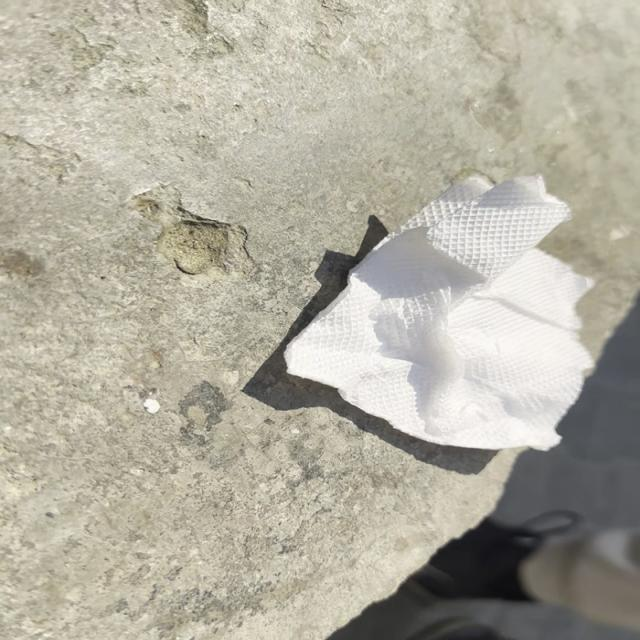tissue: (290, 177, 612, 451)
